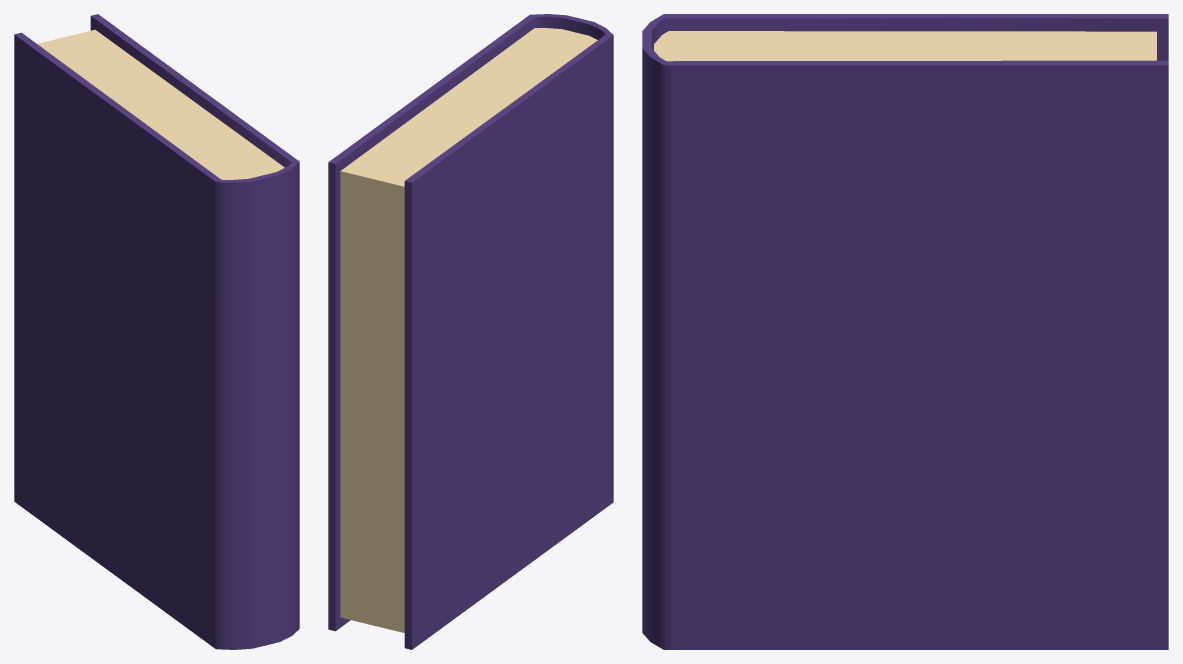
File: skillbook.fbx
The picture shows the model from 3 angles, left to right: view 1: azimuth 30°, elevation 25°; view 2: azimuth 150°, elevation 25°; view 3: azimuth 270°, elevation 25°; orthographic projection. The views are drawn at different scales.
Parts seen in each view (by area): view 1: Cube_006_Cube_008_book_008, Cube_006_Cube_008_paper; view 2: Cube_006_Cube_008_book_008, Cube_006_Cube_008_paper; view 3: Cube_006_Cube_008_book_008, Cube_006_Cube_008_paper.
Boxes of the visible parts, box(x1,y1,x2,y2) form: Cube_006_Cube_008_book_008: box(14, 14, 299, 649); Cube_006_Cube_008_paper: box(37, 29, 284, 179); Cube_006_Cube_008_book_008: box(328, 14, 613, 649); Cube_006_Cube_008_paper: box(340, 27, 597, 632); Cube_006_Cube_008_book_008: box(642, 14, 1168, 649); Cube_006_Cube_008_paper: box(654, 31, 1156, 61).
Size of the model in its own units: 9.56 by 50.94 by 41.56.
